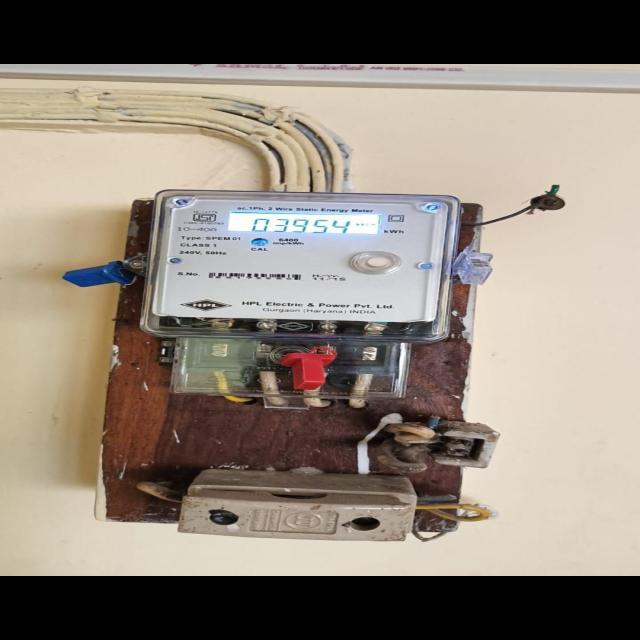display: (222, 209, 382, 239)
